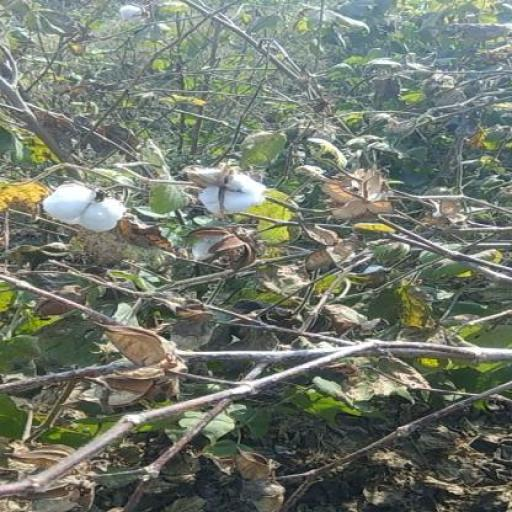cotton_ready: (34, 175, 132, 252), (173, 167, 277, 228)
